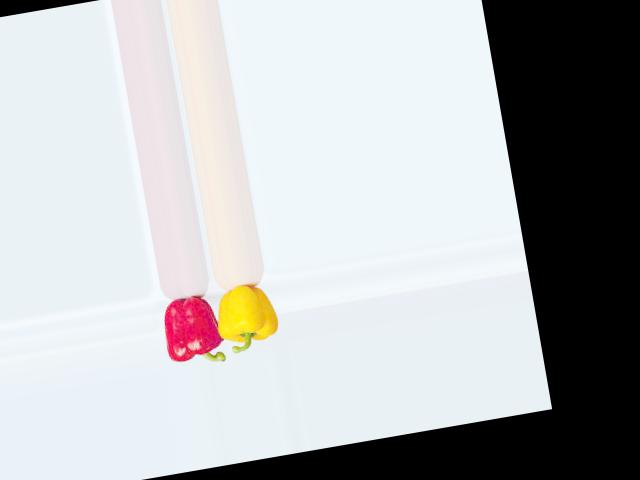bell_pepper: (152, 285, 227, 369)
